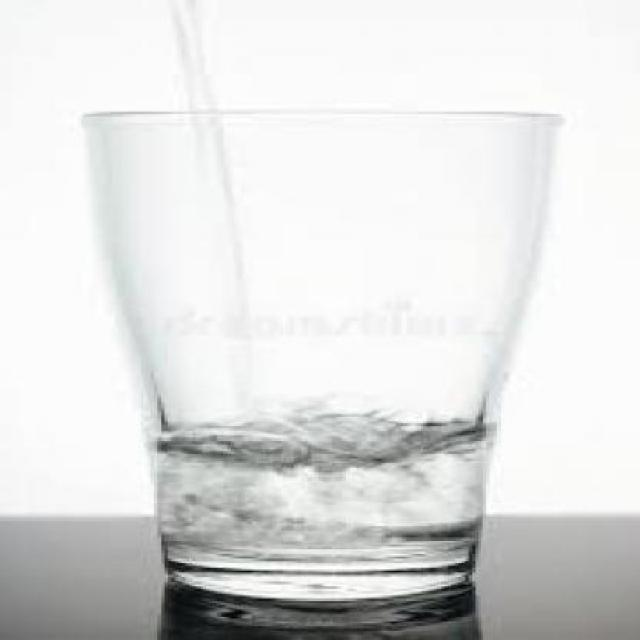kaca: (77, 109, 555, 600)
